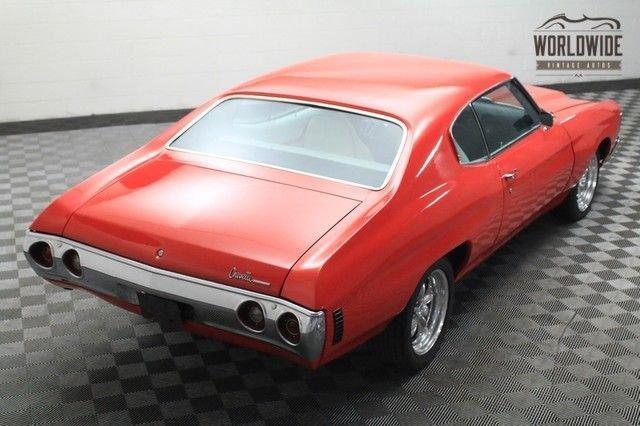chevelle-1972: (24, 53, 621, 369)
